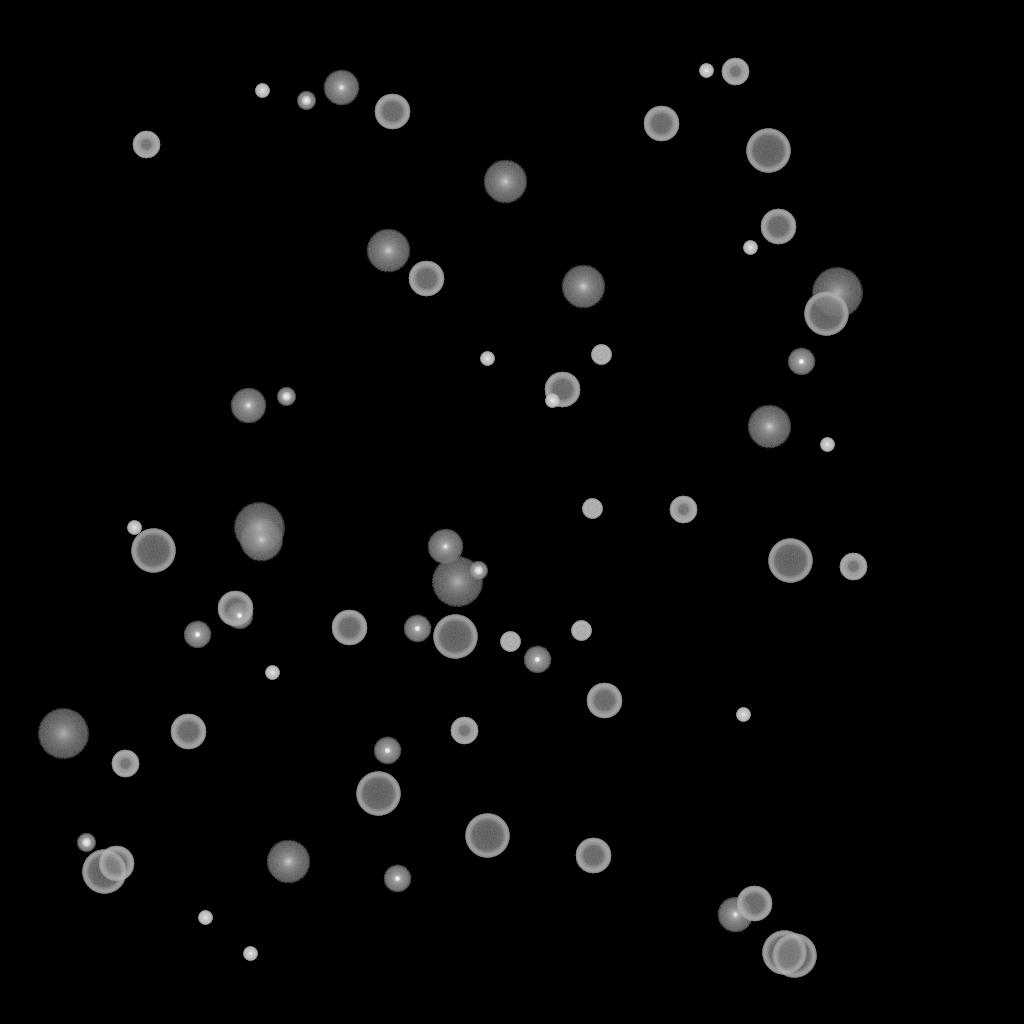depth:-10: (787, 348, 815, 376), (403, 615, 431, 643), (383, 865, 411, 893), (183, 621, 211, 649), (523, 646, 551, 674), (373, 737, 401, 765), (225, 602, 253, 630)
depth:-20: (77, 834, 95, 852), (469, 562, 487, 580), (277, 388, 295, 406), (297, 92, 315, 110)
depth:-30: (820, 438, 834, 452), (480, 352, 494, 366), (127, 521, 141, 535), (743, 241, 757, 255), (545, 394, 559, 408), (243, 947, 257, 961), (198, 911, 212, 925), (255, 84, 269, 98), (265, 666, 279, 680), (736, 708, 750, 722), (699, 64, 713, 78)
depth:-40: (582, 499, 602, 519), (571, 621, 591, 641), (591, 345, 611, 365), (500, 632, 520, 652)
depth:-50: (721, 58, 749, 86), (450, 717, 478, 745), (839, 553, 867, 581), (669, 496, 697, 524), (132, 131, 160, 159), (111, 750, 139, 778)
depth:-60: (331, 610, 367, 646), (736, 886, 772, 922), (643, 106, 679, 142), (586, 683, 622, 719), (408, 261, 444, 297), (760, 209, 796, 245), (98, 846, 134, 882), (217, 591, 253, 627), (544, 372, 580, 408), (575, 838, 611, 874), (374, 94, 410, 130), (170, 714, 206, 750)
depth:-70: (433, 615, 477, 659), (762, 931, 806, 975), (768, 539, 812, 583), (465, 814, 509, 858), (356, 772, 400, 816), (746, 129, 790, 173), (772, 934, 816, 978), (804, 292, 848, 336), (131, 529, 175, 573), (82, 850, 126, 894)
depth:0: (427, 529, 463, 565), (230, 388, 266, 424), (717, 897, 753, 933), (323, 70, 359, 106)
depth:10: (483, 160, 527, 204), (266, 840, 310, 884), (366, 229, 410, 273), (239, 518, 283, 562), (747, 405, 791, 449), (561, 265, 605, 309)
depth:20: (233, 503, 285, 553), (37, 709, 89, 759), (811, 268, 863, 318), (431, 557, 483, 607)
